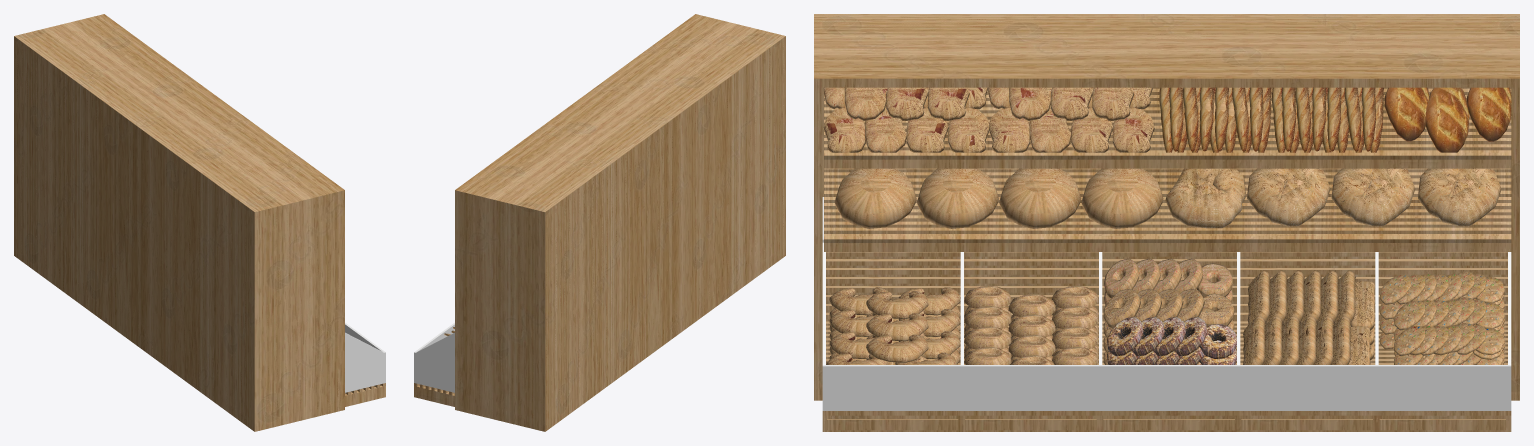
Rendered from bread_shelf.glb.
3 renders of one model, left to right at view 1: azimuth 30°, elevation 25°; view 2: azimuth 150°, elevation 25°; view 3: azimuth 270°, elevation 25°, orthographic. The views are drawn at different scales.
Parts seen in each view (by area): view 1: Mesh1_WOOD_0, Mesh93__Translucent_Glass_Green_Dark_1_0; view 2: Mesh1_WOOD_0, Mesh93__Translucent_Glass_Green_Dark_1_0; view 3: Mesh1_WOOD_0, Mesh93__Translucent_Glass_Green_Dark_1_0, Mesh14_Bread_009_0, Mesh1_Bread_002_0, Mesh210_Doughnut_0, Mesh370_Bread_001_0, Mesh269_Cookies_001_0.
Boxes of the visible parts, box(x1,y1,x2,y2) form: Mesh1_WOOD_0: box(14, 14, 385, 431); Mesh93__Translucent_Glass_Green_Dark_1_0: box(345, 322, 385, 392); Mesh1_WOOD_0: box(414, 14, 785, 431); Mesh93__Translucent_Glass_Green_Dark_1_0: box(414, 322, 454, 392); Mesh1_WOOD_0: box(814, 14, 1519, 431); Mesh93__Translucent_Glass_Green_Dark_1_0: box(822, 197, 1511, 410); Mesh14_Bread_009_0: box(824, 87, 1500, 364); Mesh1_Bread_002_0: box(1159, 87, 1383, 152); Mesh210_Doughnut_0: box(1103, 258, 1374, 364); Mesh370_Bread_001_0: box(1384, 87, 1511, 152); Mesh269_Cookies_001_0: box(1380, 272, 1504, 364).
Size of the model in its own units: 0.2736 by 0.4252 by 0.8445.
9 materials, 8 textured.
